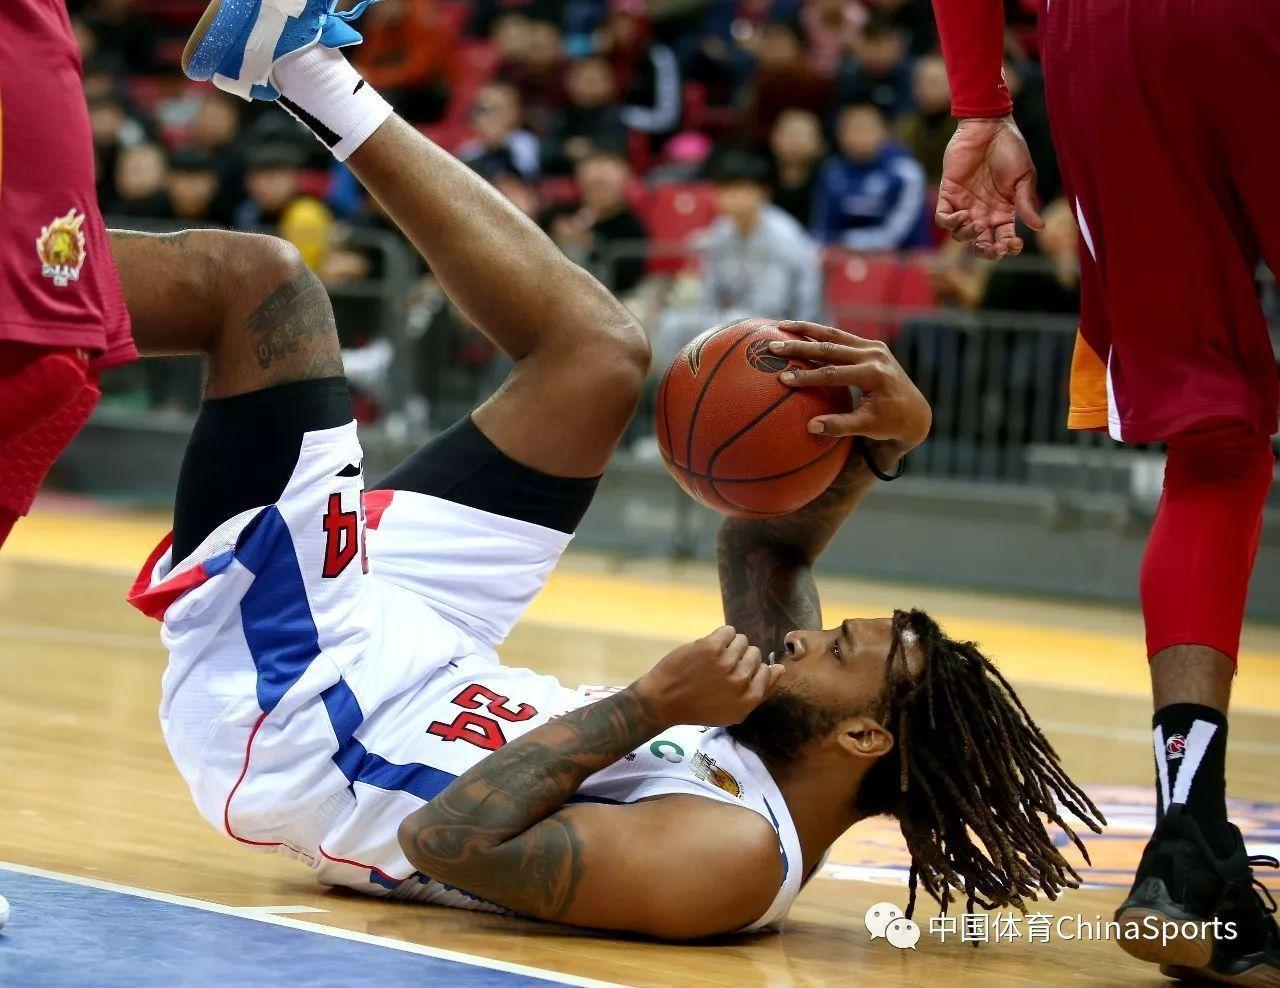down: (87, 1, 1114, 937)
